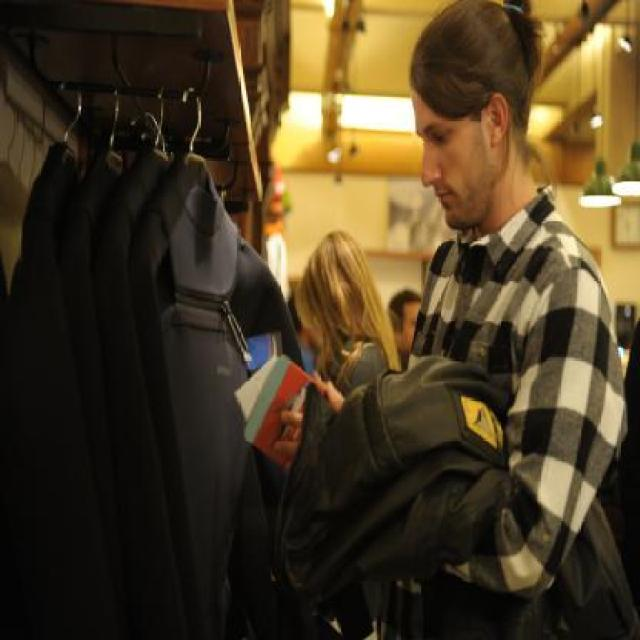sem_oculos: (390, 101, 510, 152)
